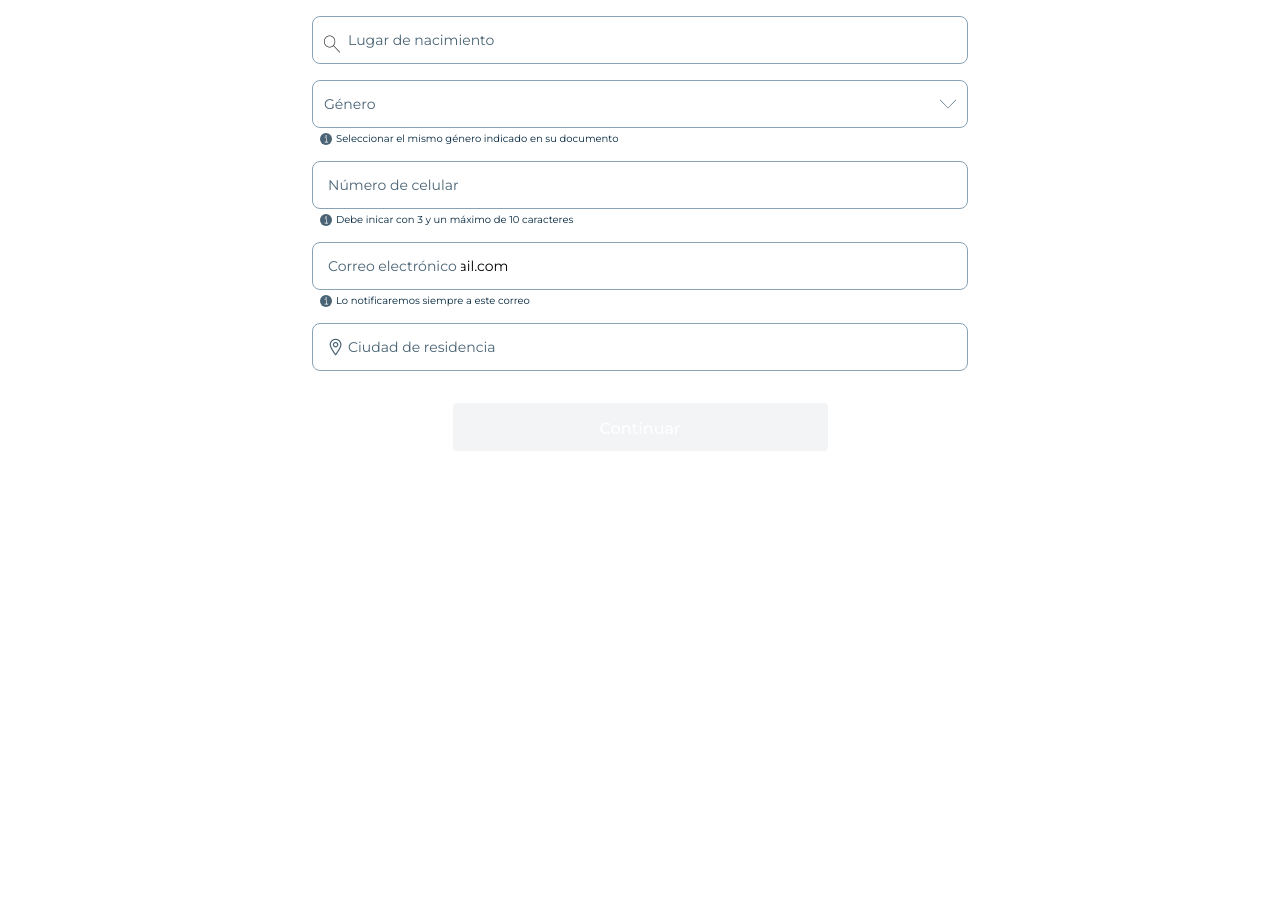
Scenario: <PersonalDataBasic/> › should show modal if is a client
Focus the field with test id "phoneTest": [640, 185] box [312, 161, 968, 209]
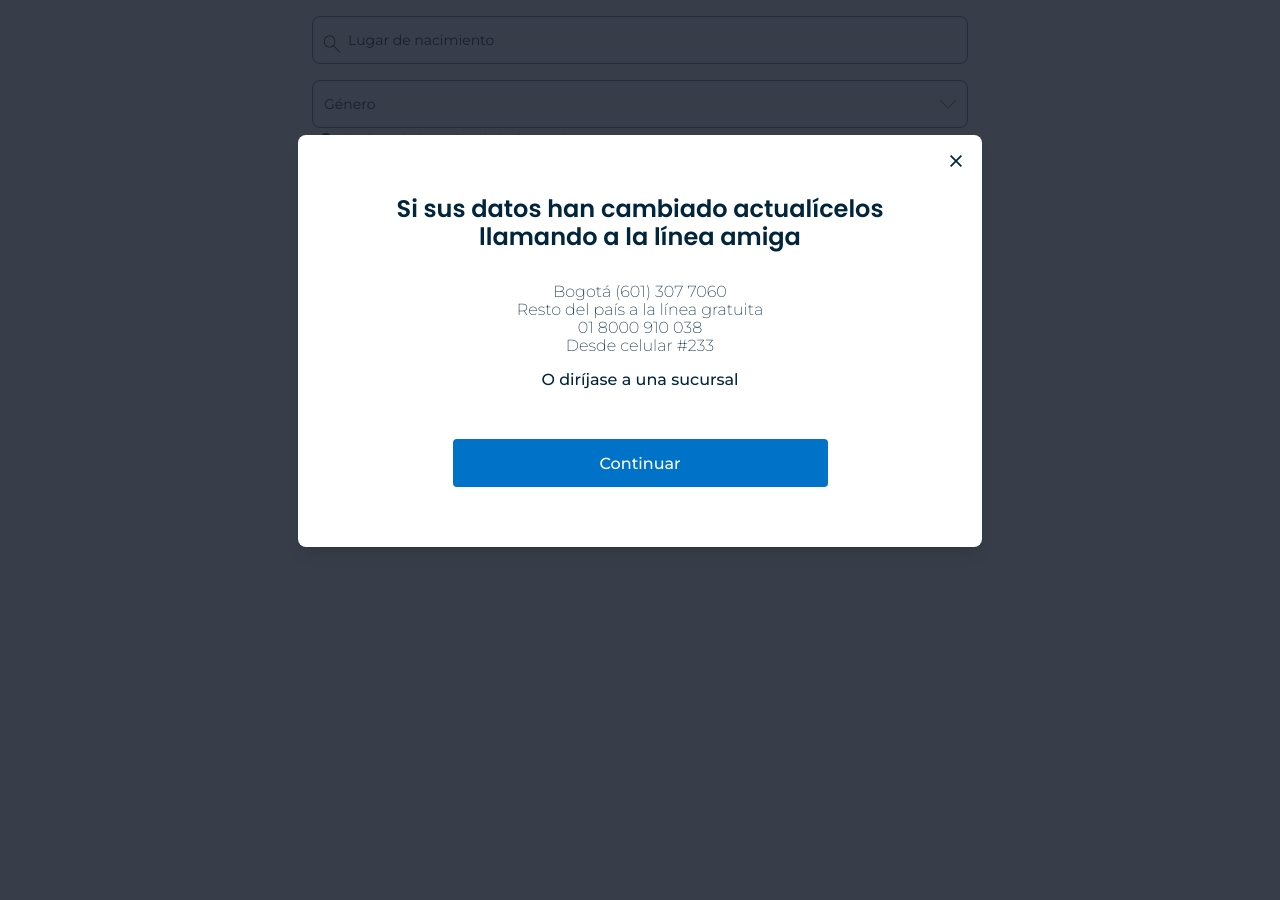
Check: the panel with test id "modalDataTest" is shown
